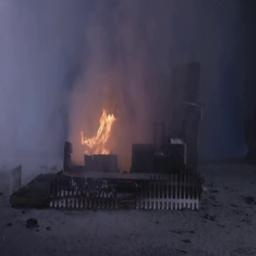fire: (69, 104, 128, 171)
smoke: (0, 0, 253, 100)
